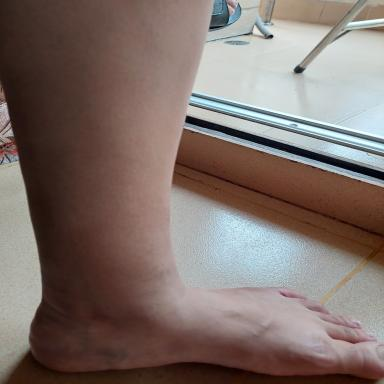normal skin: (1, 0, 384, 378)
